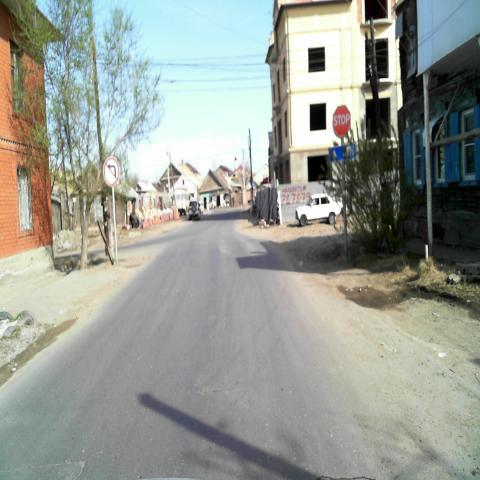2_5: (333, 103, 351, 139)
3_18_2: (103, 156, 120, 186)
6_15_1: (328, 143, 356, 161)
